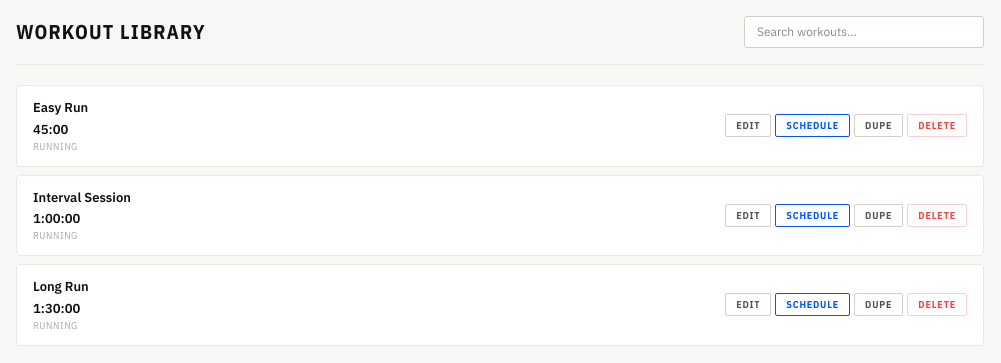
test_search_filters › type "interval" → only matching card shown
Type "interval" into the search field labelled "Search workouts..." at x=864, y=32, box [744,16,984,48]
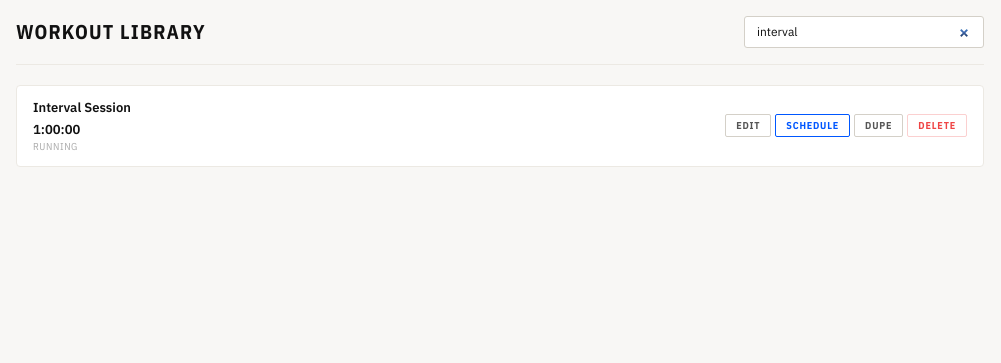
Check: the text "Interval Session" is shown, box [33,98,131,118]
Check: the number of elements with test id "template-card" is 1, box [16,85,984,166]
